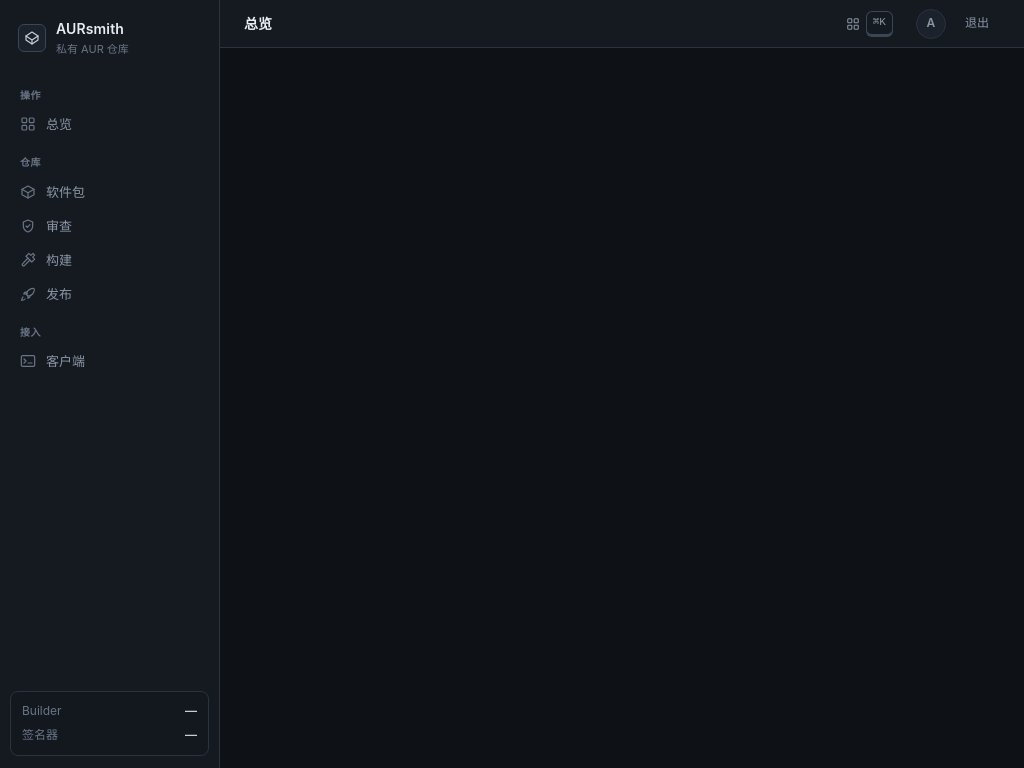
AURsmith 控制台 › 审查页可以人工批准首次添加的 revision
Click the link "审查" at (46, 226), box [20, 218, 72, 234]
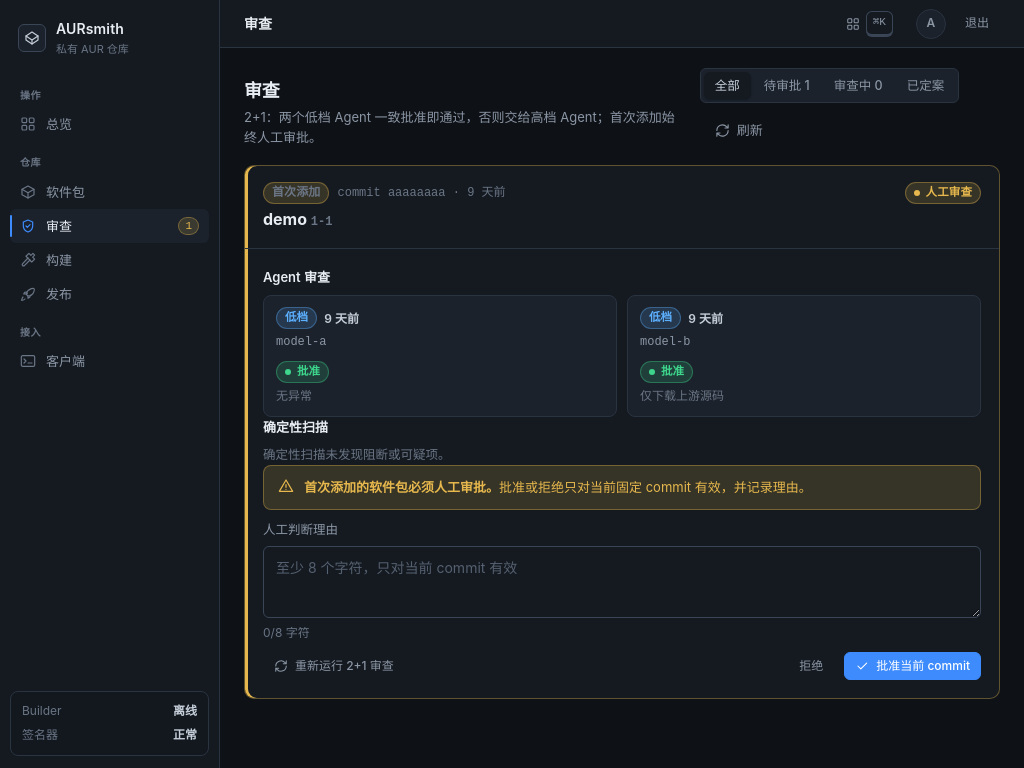
Check: the text "首次添加的软件包必须人工审批。" is shown, box [304, 479, 499, 495]
Check: the text "model-a" is shown, box [276, 335, 326, 349]
Type "已人工核对 PKGBUILD" into the text box labelled "人工判断理由" at (622, 582), box [263, 546, 981, 618]
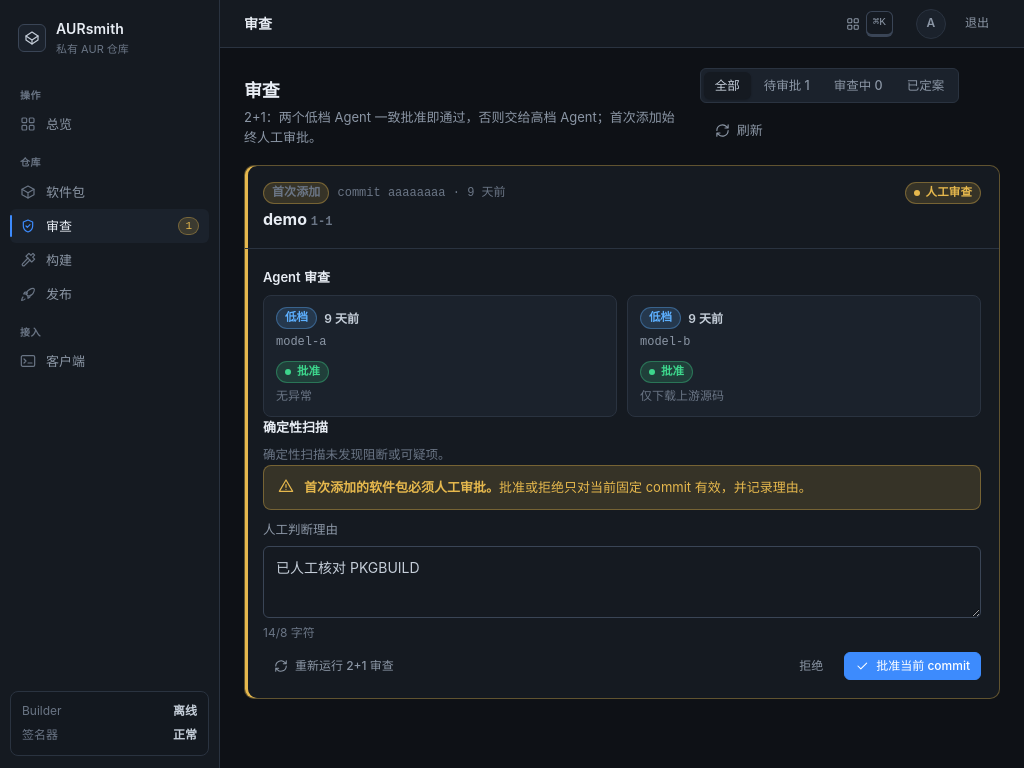
Click the button "批准当前 commit" at (913, 666), box [844, 652, 981, 680]
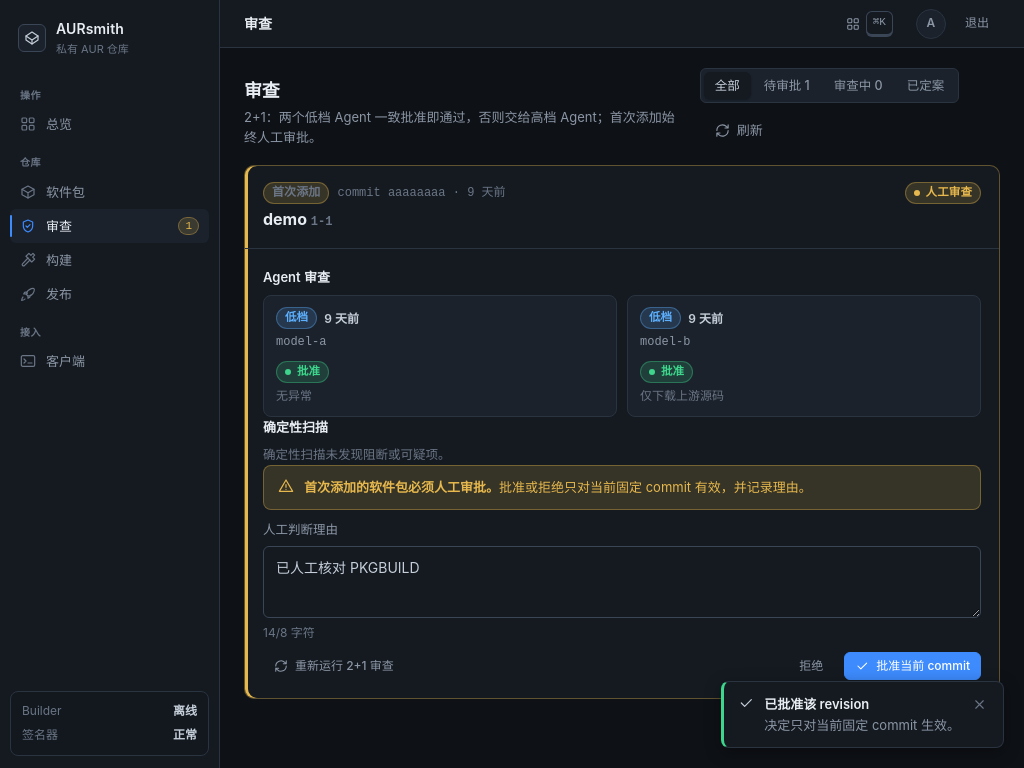
Check: the text "已批准该 revision" is shown, box [764, 696, 869, 712]
